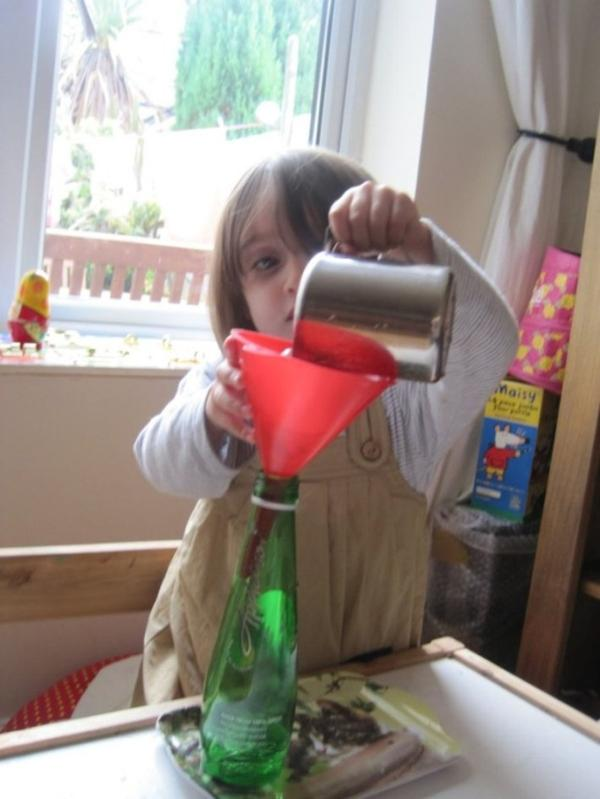person: (129, 144, 520, 717)
